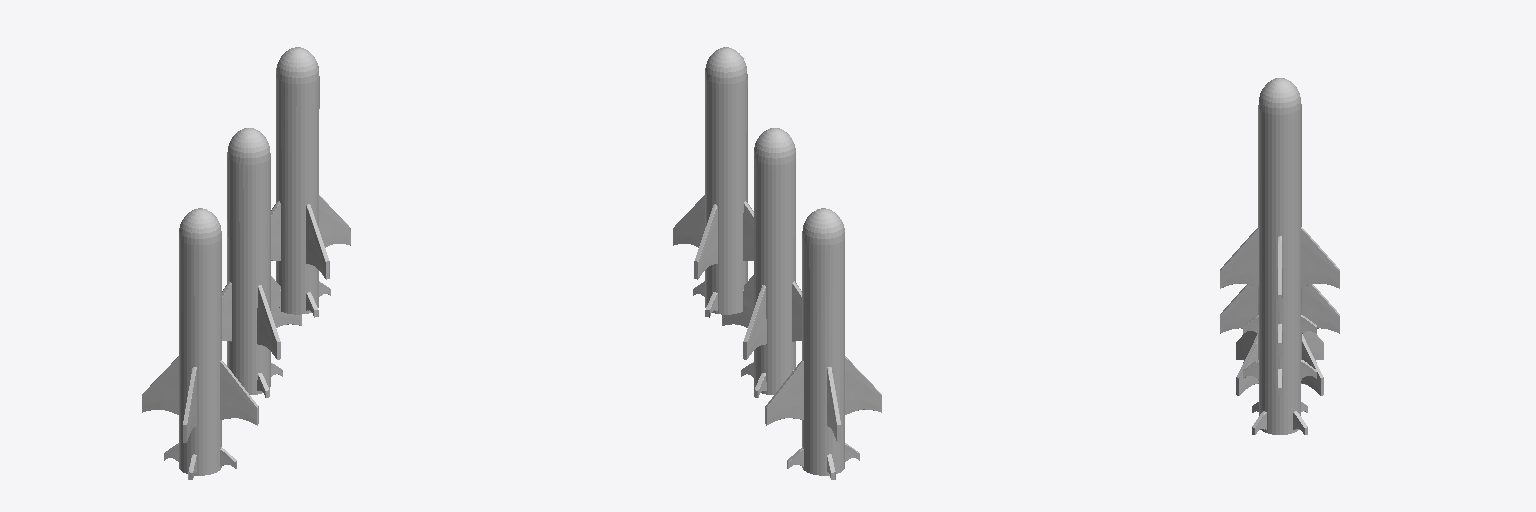
File: MissilePickup.obj
3 views of the same model, side by side, from view 1: azimuth 30°, elevation 25°; view 2: azimuth 150°, elevation 25°; view 3: azimuth 270°, elevation 25° (orthographic).
Parts seen in each view (by area): view 1: Missile.001, Missile, Missile.002; view 2: Missile.001, Missile, Missile.002; view 3: Missile, Missile.002, Missile.001.
Part boxes in pixels (x1,y1,x2,y2): Missile.001: (142,208,258,479); Missile: (271,47,350,317); Missile.002: (222,128,301,397); Missile.001: (765,208,881,479); Missile: (673,47,753,317); Missile.002: (722,128,801,397); Missile: (1220,78,1339,349); Missile.002: (1220,284,1339,394); Missile.001: (1236,331,1323,434).
Bounding box in the file's own units: 5 × 10.05 × 2.77.